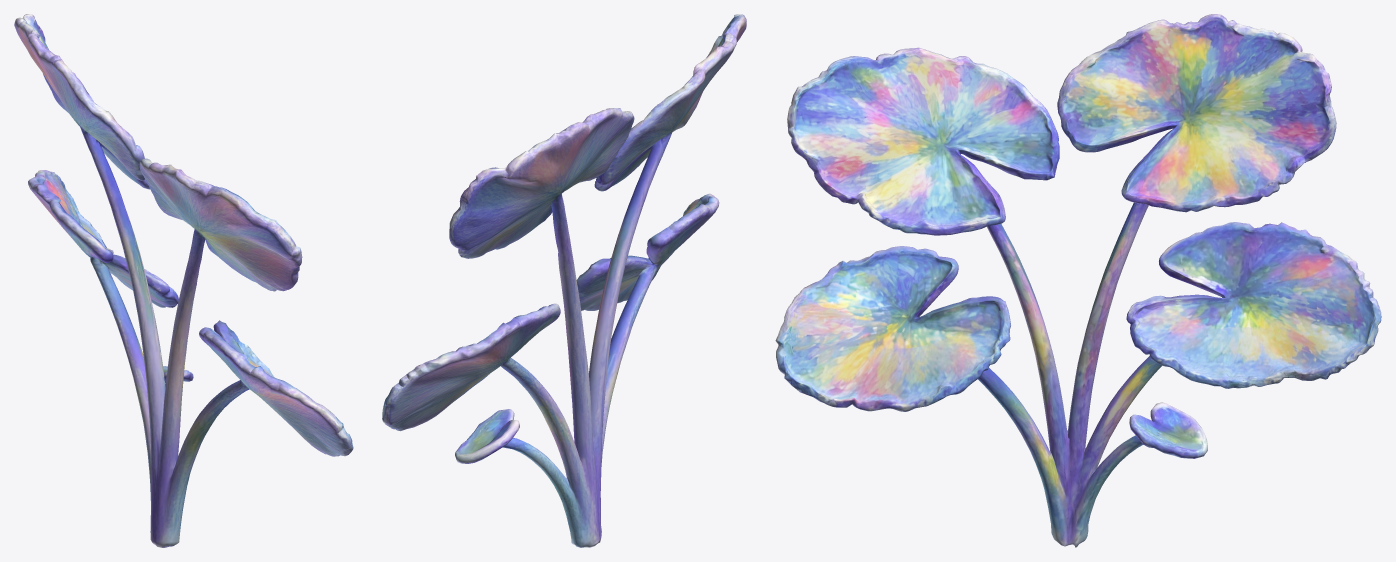
File: watercolor+plant+3d+model+1k.glb
3 renders of one model, left to right at view 1: azimuth 30°, elevation 25°; view 2: azimuth 150°, elevation 25°; view 3: azimuth 270°, elevation 25°, orthographic. The views are drawn at different scales.
Parts seen in each view (by area): view 1: tripo_node_ebd3b9ca-10fd-427e-ba4c-54700b0dc801; view 2: tripo_node_ebd3b9ca-10fd-427e-ba4c-54700b0dc801; view 3: tripo_node_ebd3b9ca-10fd-427e-ba4c-54700b0dc801.
Boxes of the visible parts, bbox=[...] form: tripo_node_ebd3b9ca-10fd-427e-ba4c-54700b0dc801: bbox=[14, 14, 353, 547]; tripo_node_ebd3b9ca-10fd-427e-ba4c-54700b0dc801: bbox=[382, 14, 746, 547]; tripo_node_ebd3b9ca-10fd-427e-ba4c-54700b0dc801: bbox=[775, 14, 1381, 547].
Bounding box in the file's own units: 0.2679 × 0.904 × 1.
Materials: 1 (1 with a texture image).
